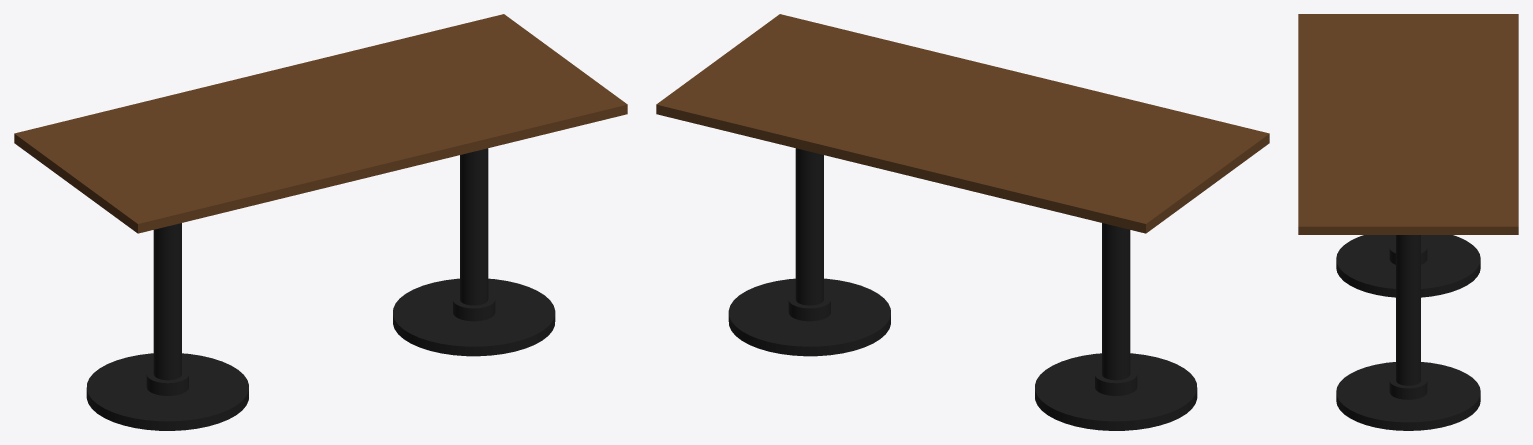
3 renders of one model, left to right at view 1: azimuth 30°, elevation 25°; view 2: azimuth 150°, elevation 25°; view 3: azimuth 270°, elevation 25°, orthographic. The views are drawn at different scales.
Parts seen in each view (by area): view 1: base-2522; view 2: base-2522; view 3: base-2522.
Boxes of the visible parts, x1=… form: base-2522: x1=14, y1=14, x2=627, y2=430; base-2522: x1=656, y1=14, x2=1269, y2=430; base-2522: x1=1298, y1=14, x2=1518, y2=430.
Bounding box in the file's own units: 1.6 × 0.75 × 0.7.
